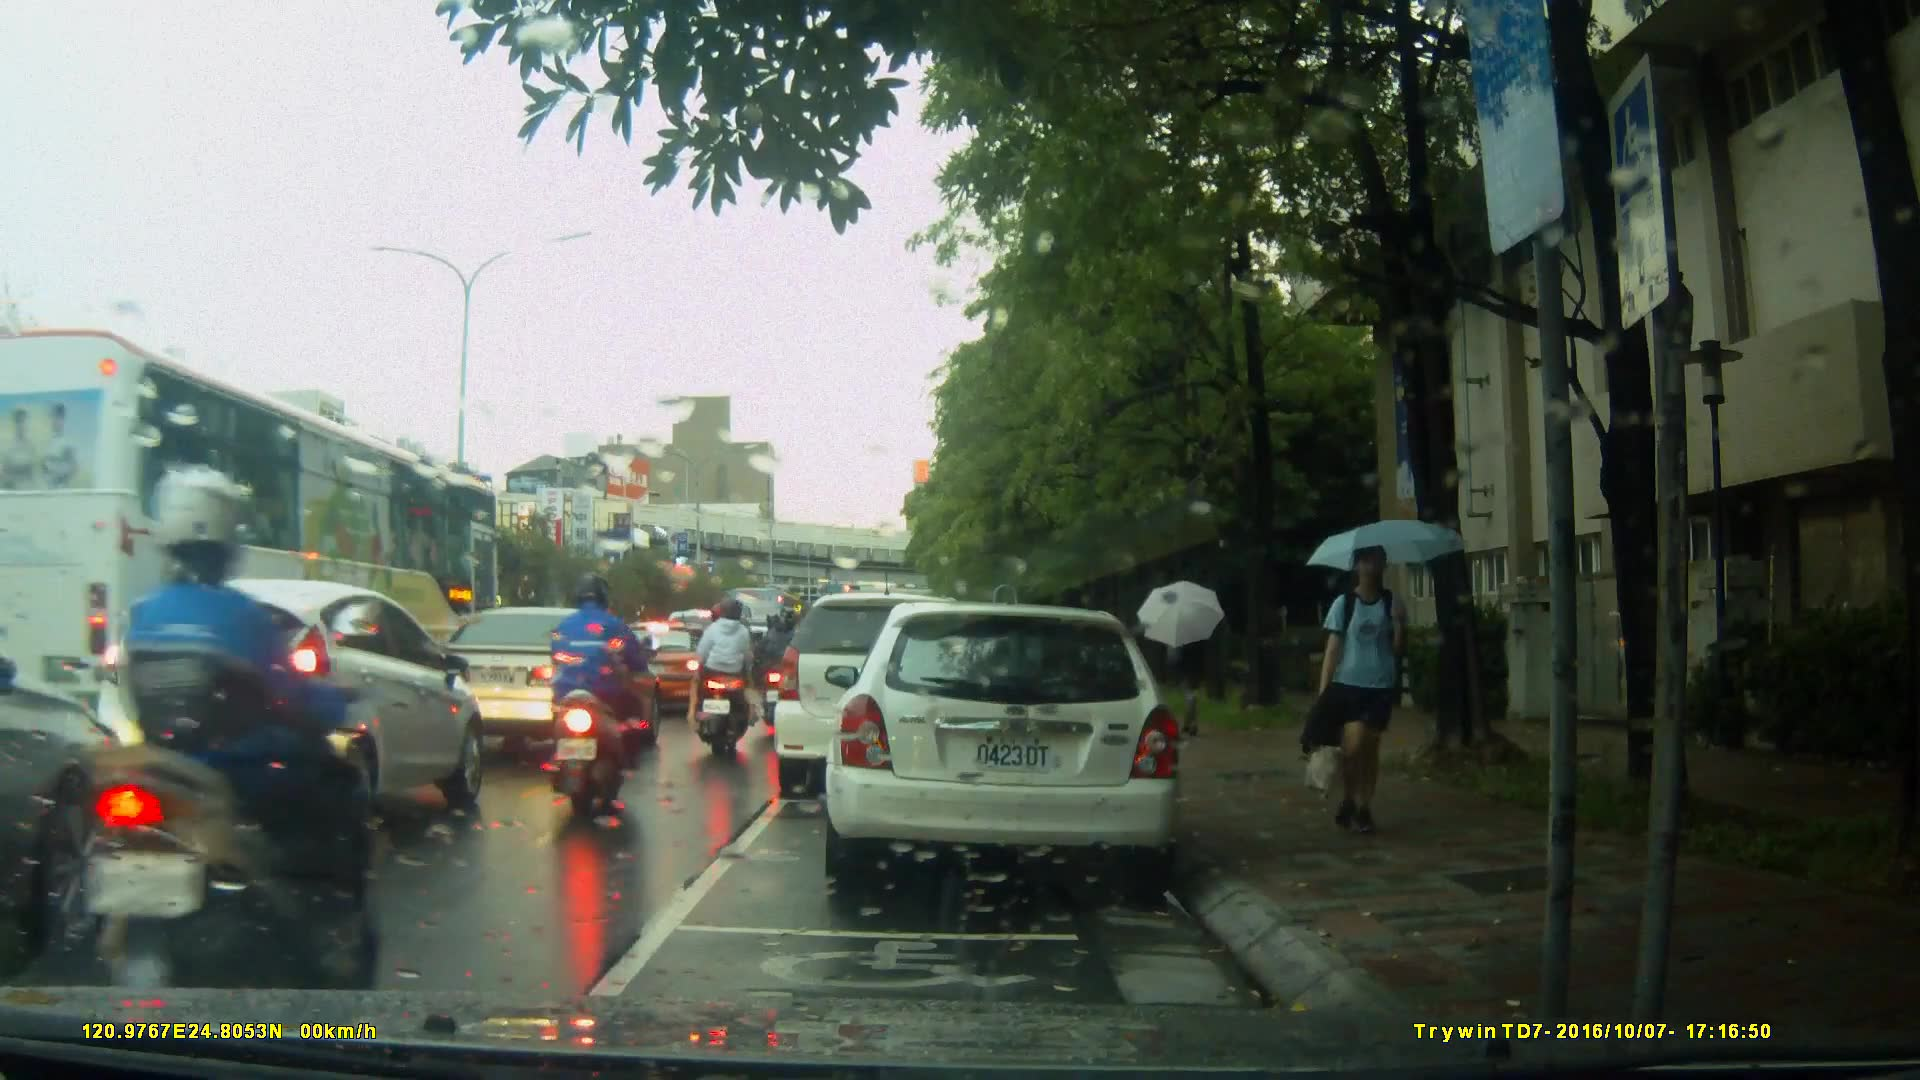pedestrian: (1305, 547, 1436, 832), (1164, 609, 1218, 738)
rider: (75, 452, 376, 1046), (555, 573, 647, 809), (698, 594, 769, 769), (760, 607, 798, 733)
vehicle: (4, 313, 509, 789), (835, 594, 1194, 898), (87, 576, 485, 846), (776, 590, 1026, 784), (407, 604, 656, 756), (609, 619, 728, 717)
